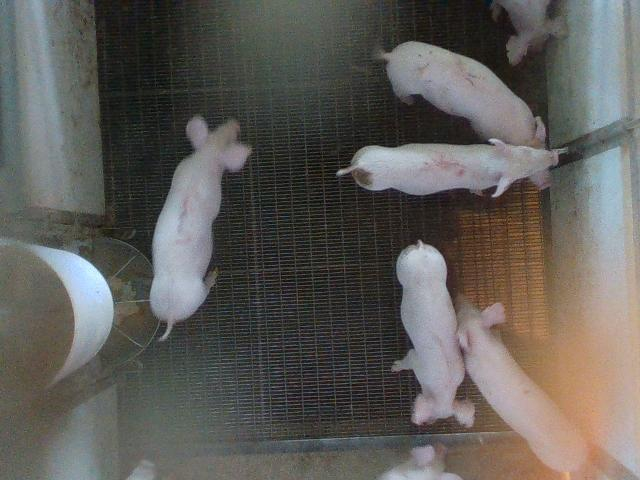pig-3: (150, 116, 251, 341)
pig-5: (336, 139, 565, 197)
